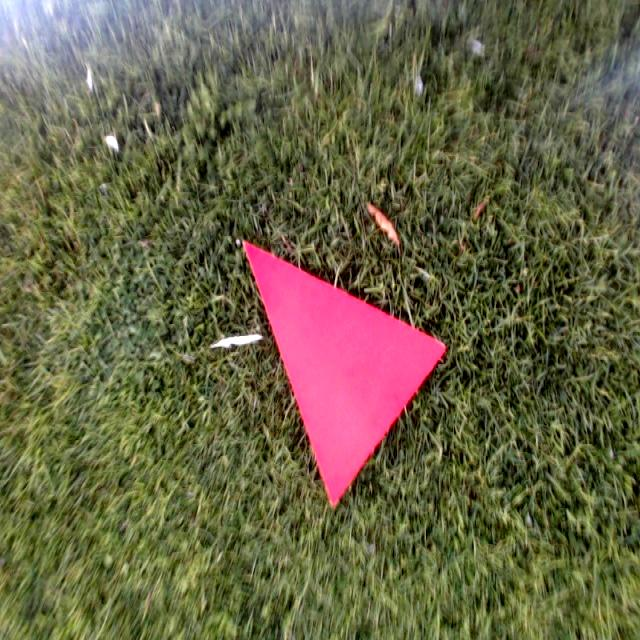red_triangle: (242, 240, 444, 508)
